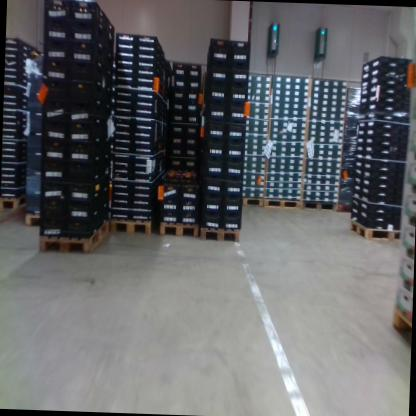pallet: (37, 218, 109, 262), (347, 218, 406, 244), (109, 213, 158, 237), (200, 223, 242, 247), (154, 221, 200, 241), (394, 301, 413, 347), (263, 194, 304, 212), (0, 189, 30, 212), (303, 197, 339, 214), (237, 193, 264, 209), (24, 215, 47, 227), (337, 202, 358, 214)
